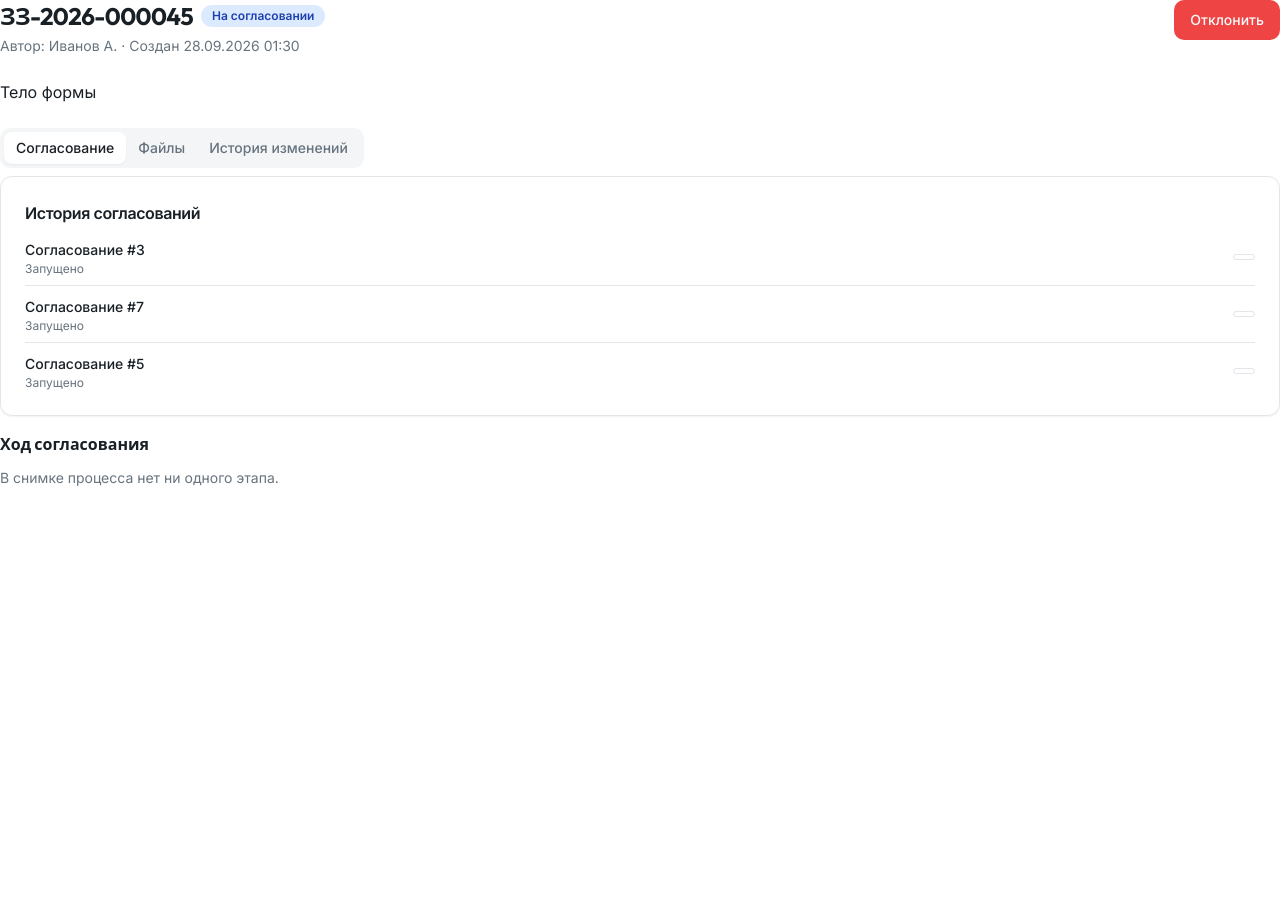
BppDocumentShell — действия › «Отклонить» с 9 символами не отправляется, с 10 — отправляется; повтор после 5xx — тем же ключом
Click the button "Отклонить". click: [1227, 20]
box: [1174,0,1279,40]
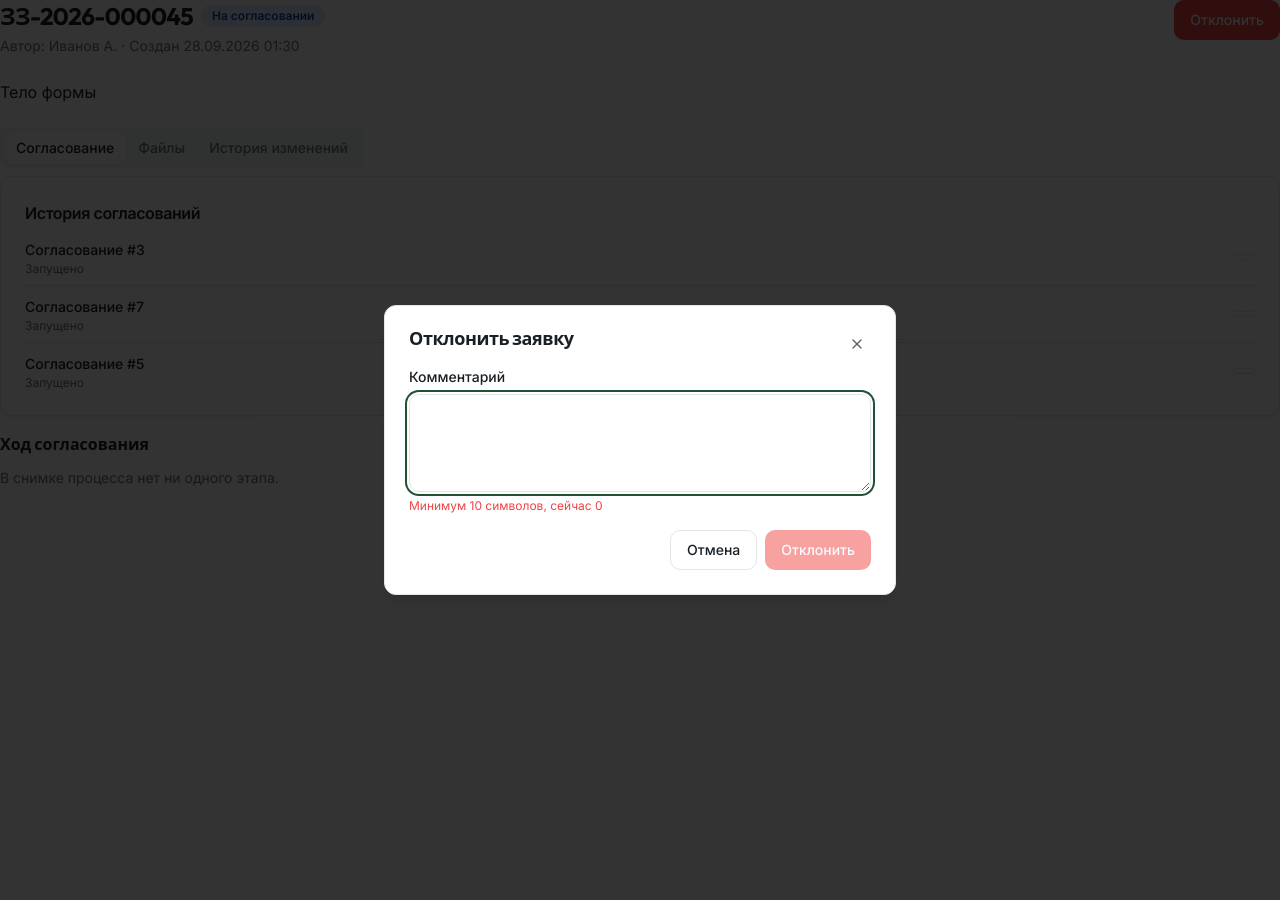
Type "123456789" into the text box labelled "Комментарий". click: [640, 443]
box: [409,394,871,492]
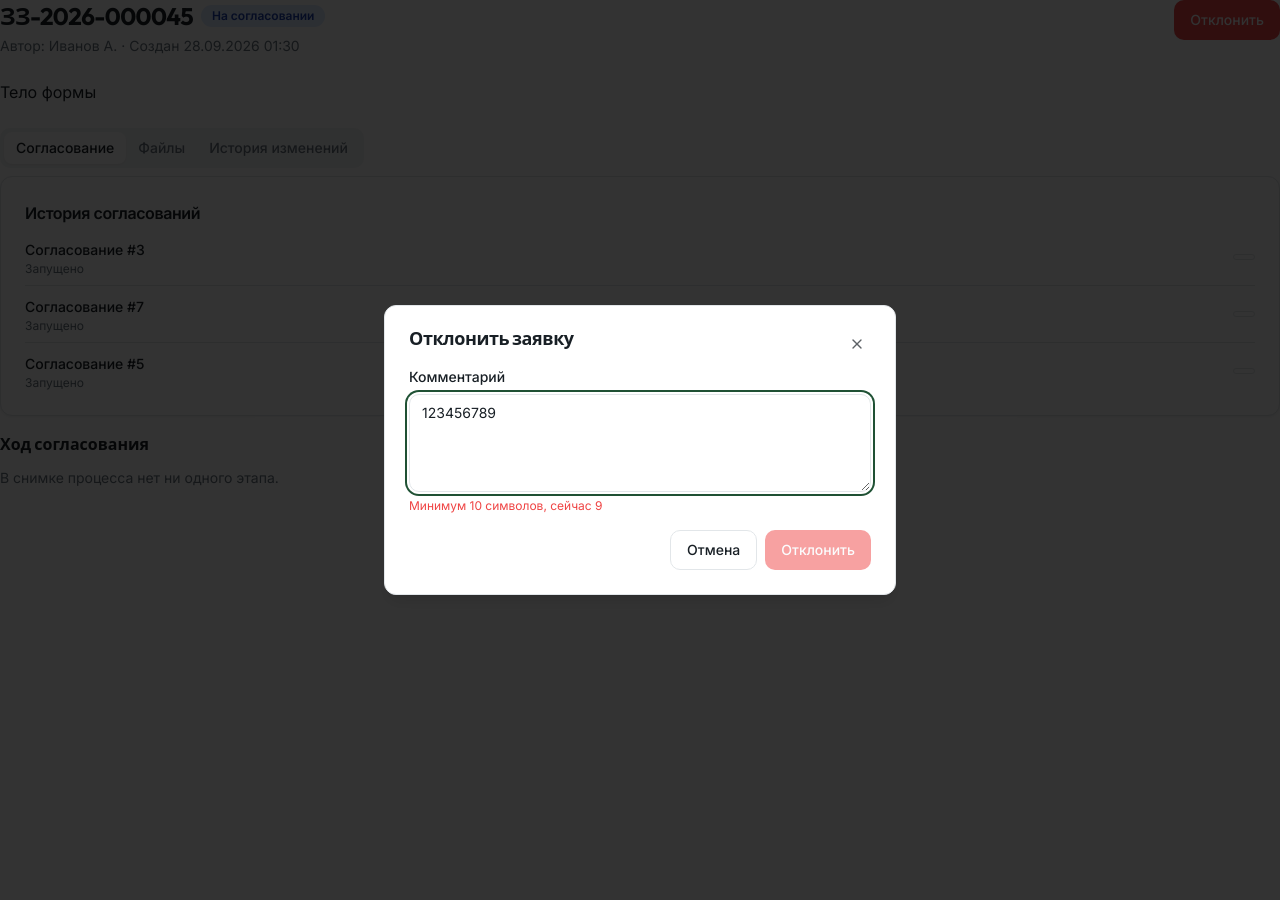
Result: the button "Отклонить" is disabled
Result: the text "Минимум 10 символов, сейчас 9" is shown at [409,498,602,513]
Click the button "Отклонить". click: [818, 550]
box: [765,530,871,570]
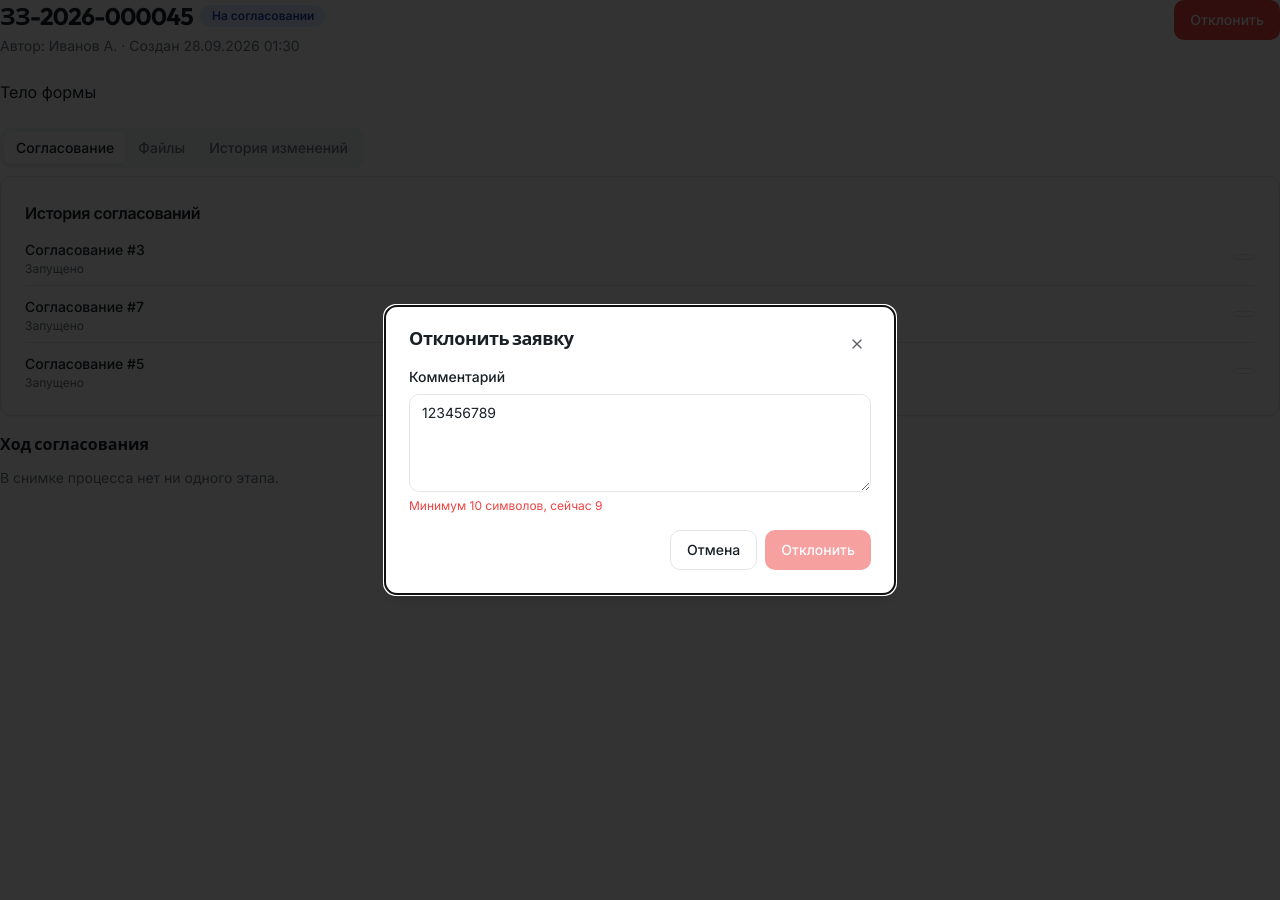
Type "0" into the text box labelled "Комментарий". click: [640, 443]
box: [409,394,871,492]
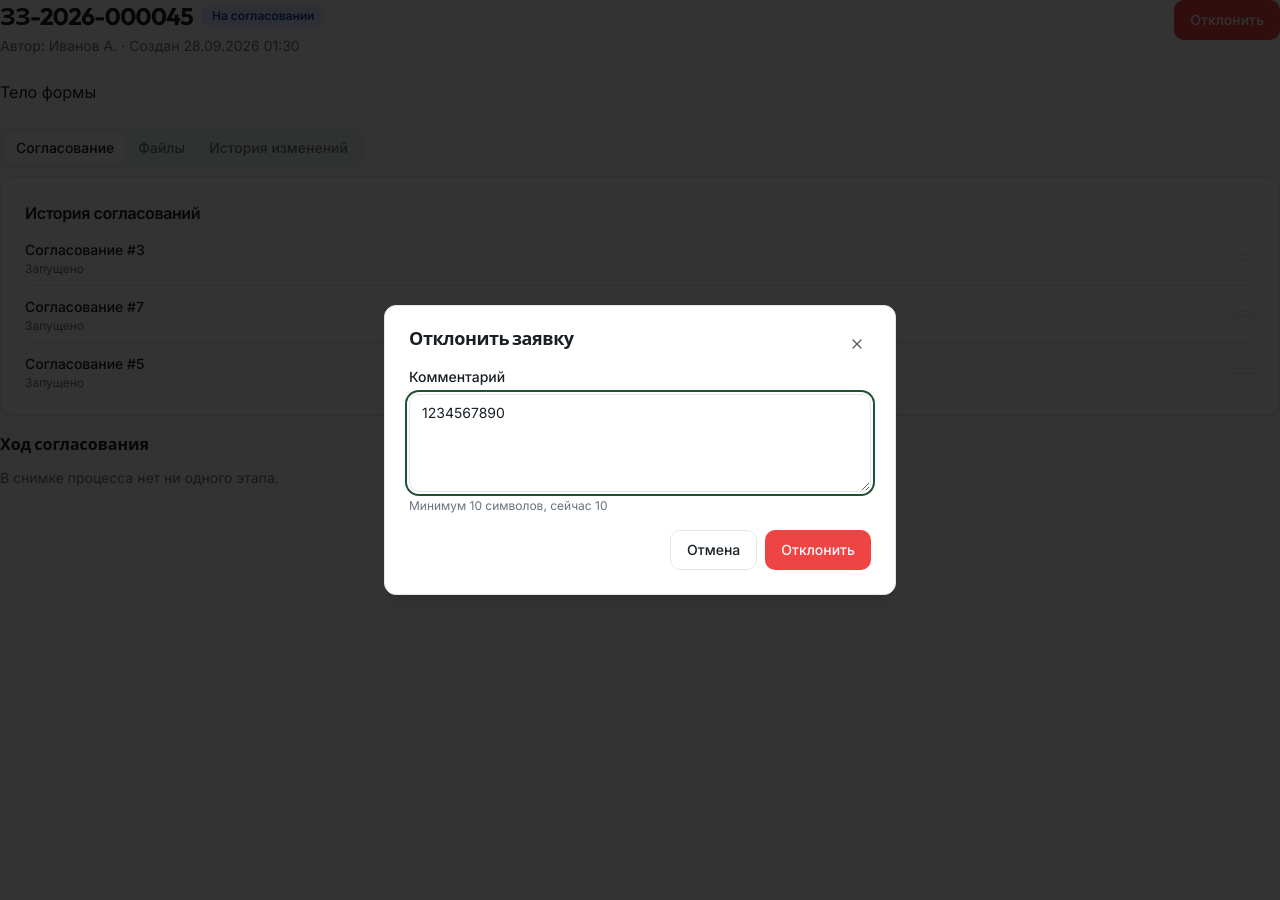
Result: the button "Отклонить" is enabled
Click the button "Отклонить". click: [818, 550]
box: [765,530,871,570]
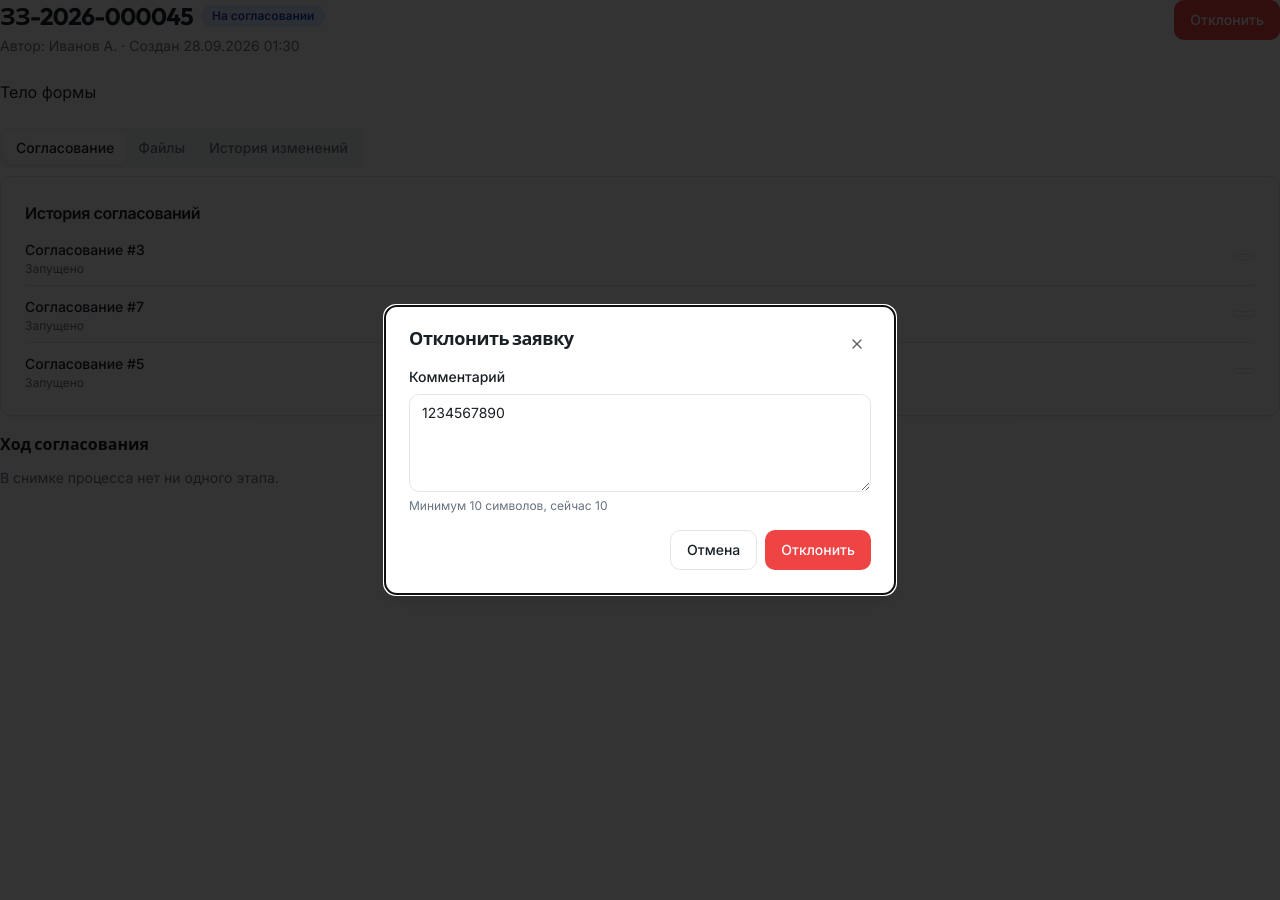
Result: the dialog is shown at [384,305,896,595]
Result: the button "Отклонить" is enabled
Click the button "Отклонить". click: [818, 550]
box: [765,530,871,570]
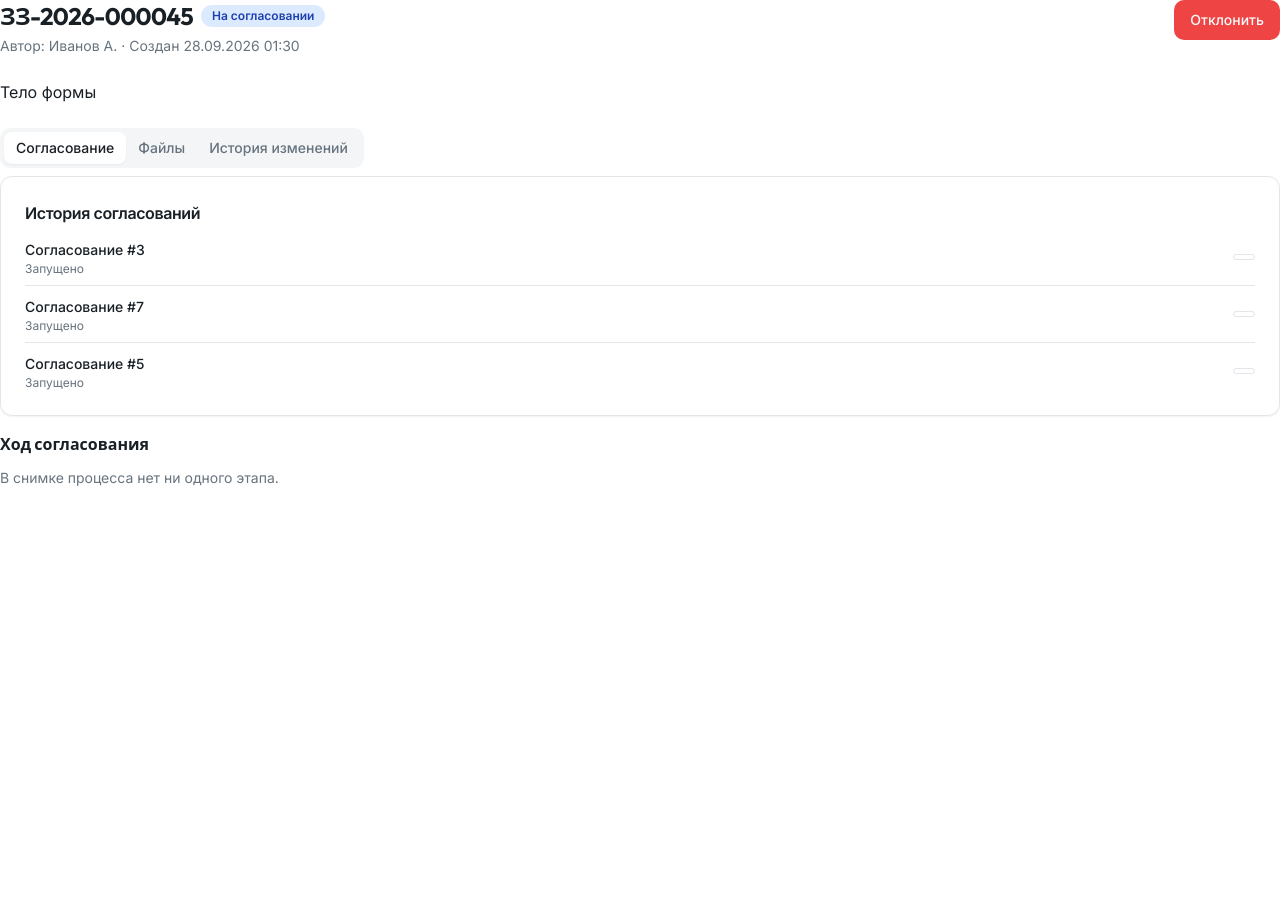
Result: the dialog is gone
